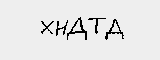Р: (118, 23, 138, 42)
С: (21, 27, 45, 47)
У: (44, 26, 66, 46)
Х: (98, 23, 119, 42)
Щ: (81, 24, 101, 42)
Ү: (65, 25, 82, 42)
